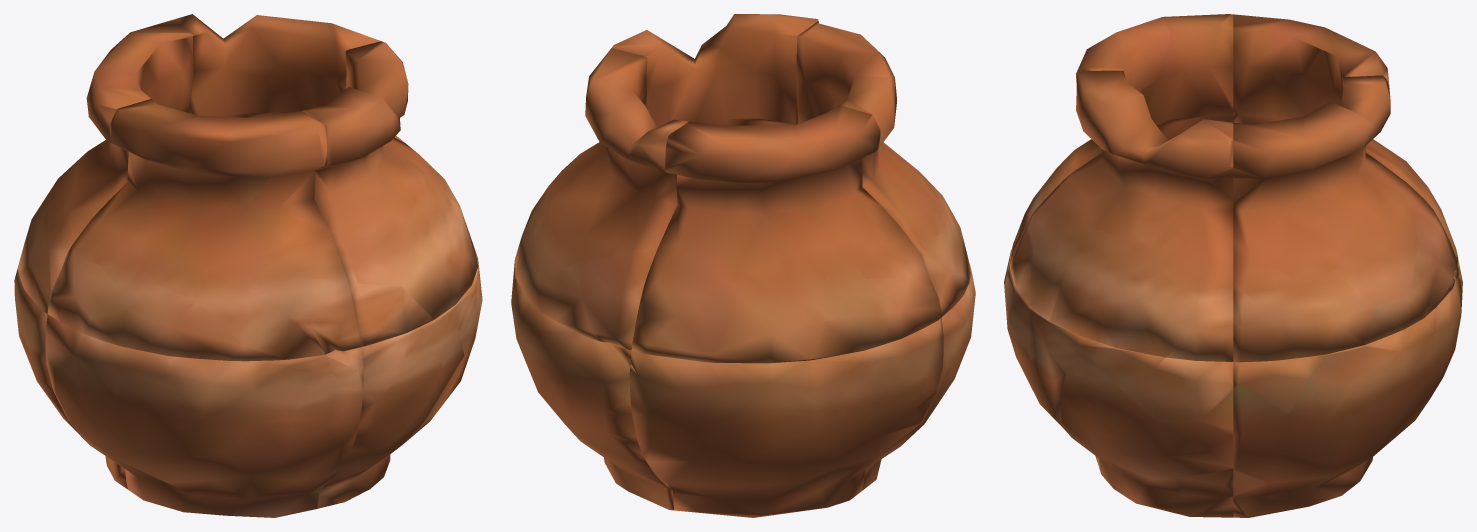
File: jarron_fragmentos.glb
The picture shows the model from 3 angles, left to right: view 1: azimuth 30°, elevation 25°; view 2: azimuth 150°, elevation 25°; view 3: azimuth 270°, elevation 25°; orthographic projection.
Parts seen in each view (by area): view 1: fragmento_06, fragmento_07, fragmento_02, fragmento_04, fragmento_00, fragmento_03, fragmento_05; view 2: fragmento_04, fragmento_05, fragmento_00, fragmento_06, fragmento_02, fragmento_01, fragmento_07; view 3: fragmento_00, fragmento_02, fragmento_03, fragmento_01, fragmento_06, fragmento_04.
Part boxes in pixels (<box>): fragmento_06: <box>47,99,360,361</box>; fragmento_07: <box>45,314,363,517</box>; fragmento_02: <box>304,41,478,346</box>; fragmento_04: <box>18,19,193,313</box>; fragmento_00: <box>174,14,405,143</box>; fragmento_03: <box>318,249,482,508</box>; fragmento_05: <box>14,264,127,489</box>; fragmento_04: <box>631,105,941,363</box>; fragmento_05: <box>629,318,943,517</box>; fragmento_00: <box>515,48,688,350</box>; fragmento_06: <box>796,21,970,316</box>; fragmento_02: <box>590,14,818,147</box>; fragmento_01: <box>511,260,673,510</box>; fragmento_07: <box>862,255,975,490</box>; fragmento_00: <box>1233,75,1457,362</box>; fragmento_02: <box>1010,70,1233,361</box>; fragmento_03: <box>1004,266,1233,517</box>; fragmento_01: <box>1233,266,1462,517</box>; fragmento_06: <box>1010,14,1233,264</box>; fragmento_04: <box>1233,14,1458,264</box>.
Size of the model in its own units: 0.6491 by 0.6 by 0.6348.
2 materials, 1 textured.
